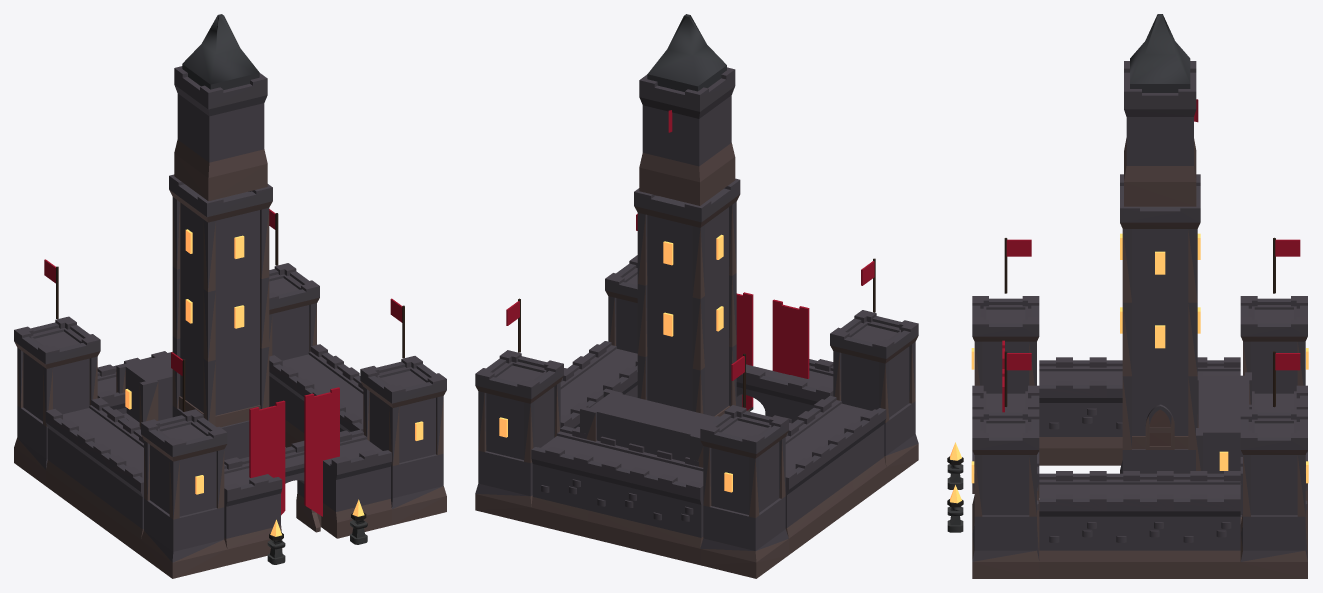
File: fortress_l3.glb
The picture shows the model from 3 angles, left to right: view 1: azimuth 30°, elevation 25°; view 2: azimuth 150°, elevation 25°; view 3: azimuth 270°, elevation 25°; orthographic projection. The views are drawn at different scales.
Parts seen in each view (by area): view 1: fortress_l3; view 2: fortress_l3; view 3: fortress_l3.
Boxes of the visible parts, x1,y1,x2,y2 form: fortress_l3: [14, 14, 446, 578]; fortress_l3: [475, 14, 918, 578]; fortress_l3: [947, 14, 1308, 578].
Size of the model in its own units: 7.34 by 11.9 by 7.9.
